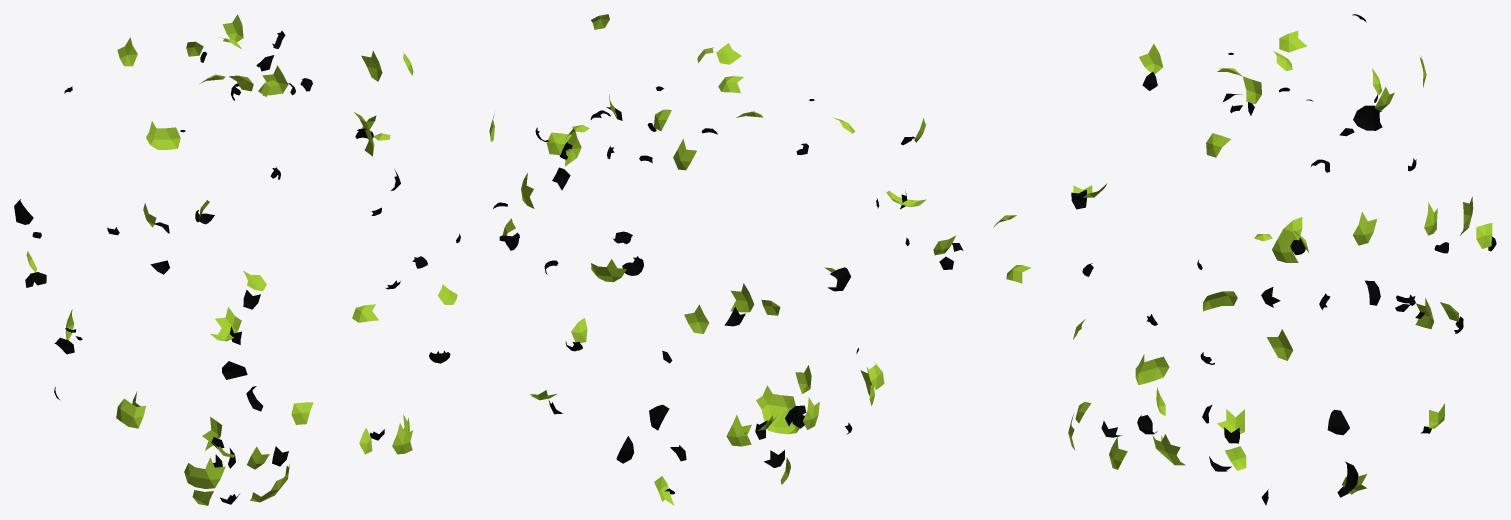
File: explode.f0017.glb
3 renders of one model, left to right at view 1: azimuth 30°, elevation 25°; view 2: azimuth 150°, elevation 25°; view 3: azimuth 270°, elevation 25°, orthographic. The views are drawn at different scales.
Visible parts, largest first — view 1: Body.001; view 2: Body.001; view 3: Body.001.
Part boxes in pixels (<box>): Body.001: <box>14,14,460,505</box>; Body.001: <box>489,14,963,505</box>; Body.001: <box>993,14,1496,505</box>.
Size of the model in its own units: 13.12 by 13.49 by 13.41.
Materials: 1 (1 with a texture image).
